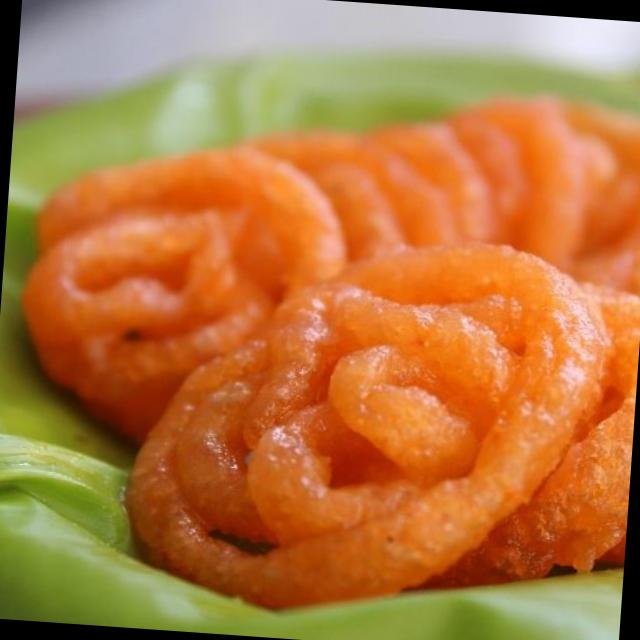jalebi: (18, 85, 640, 619)
